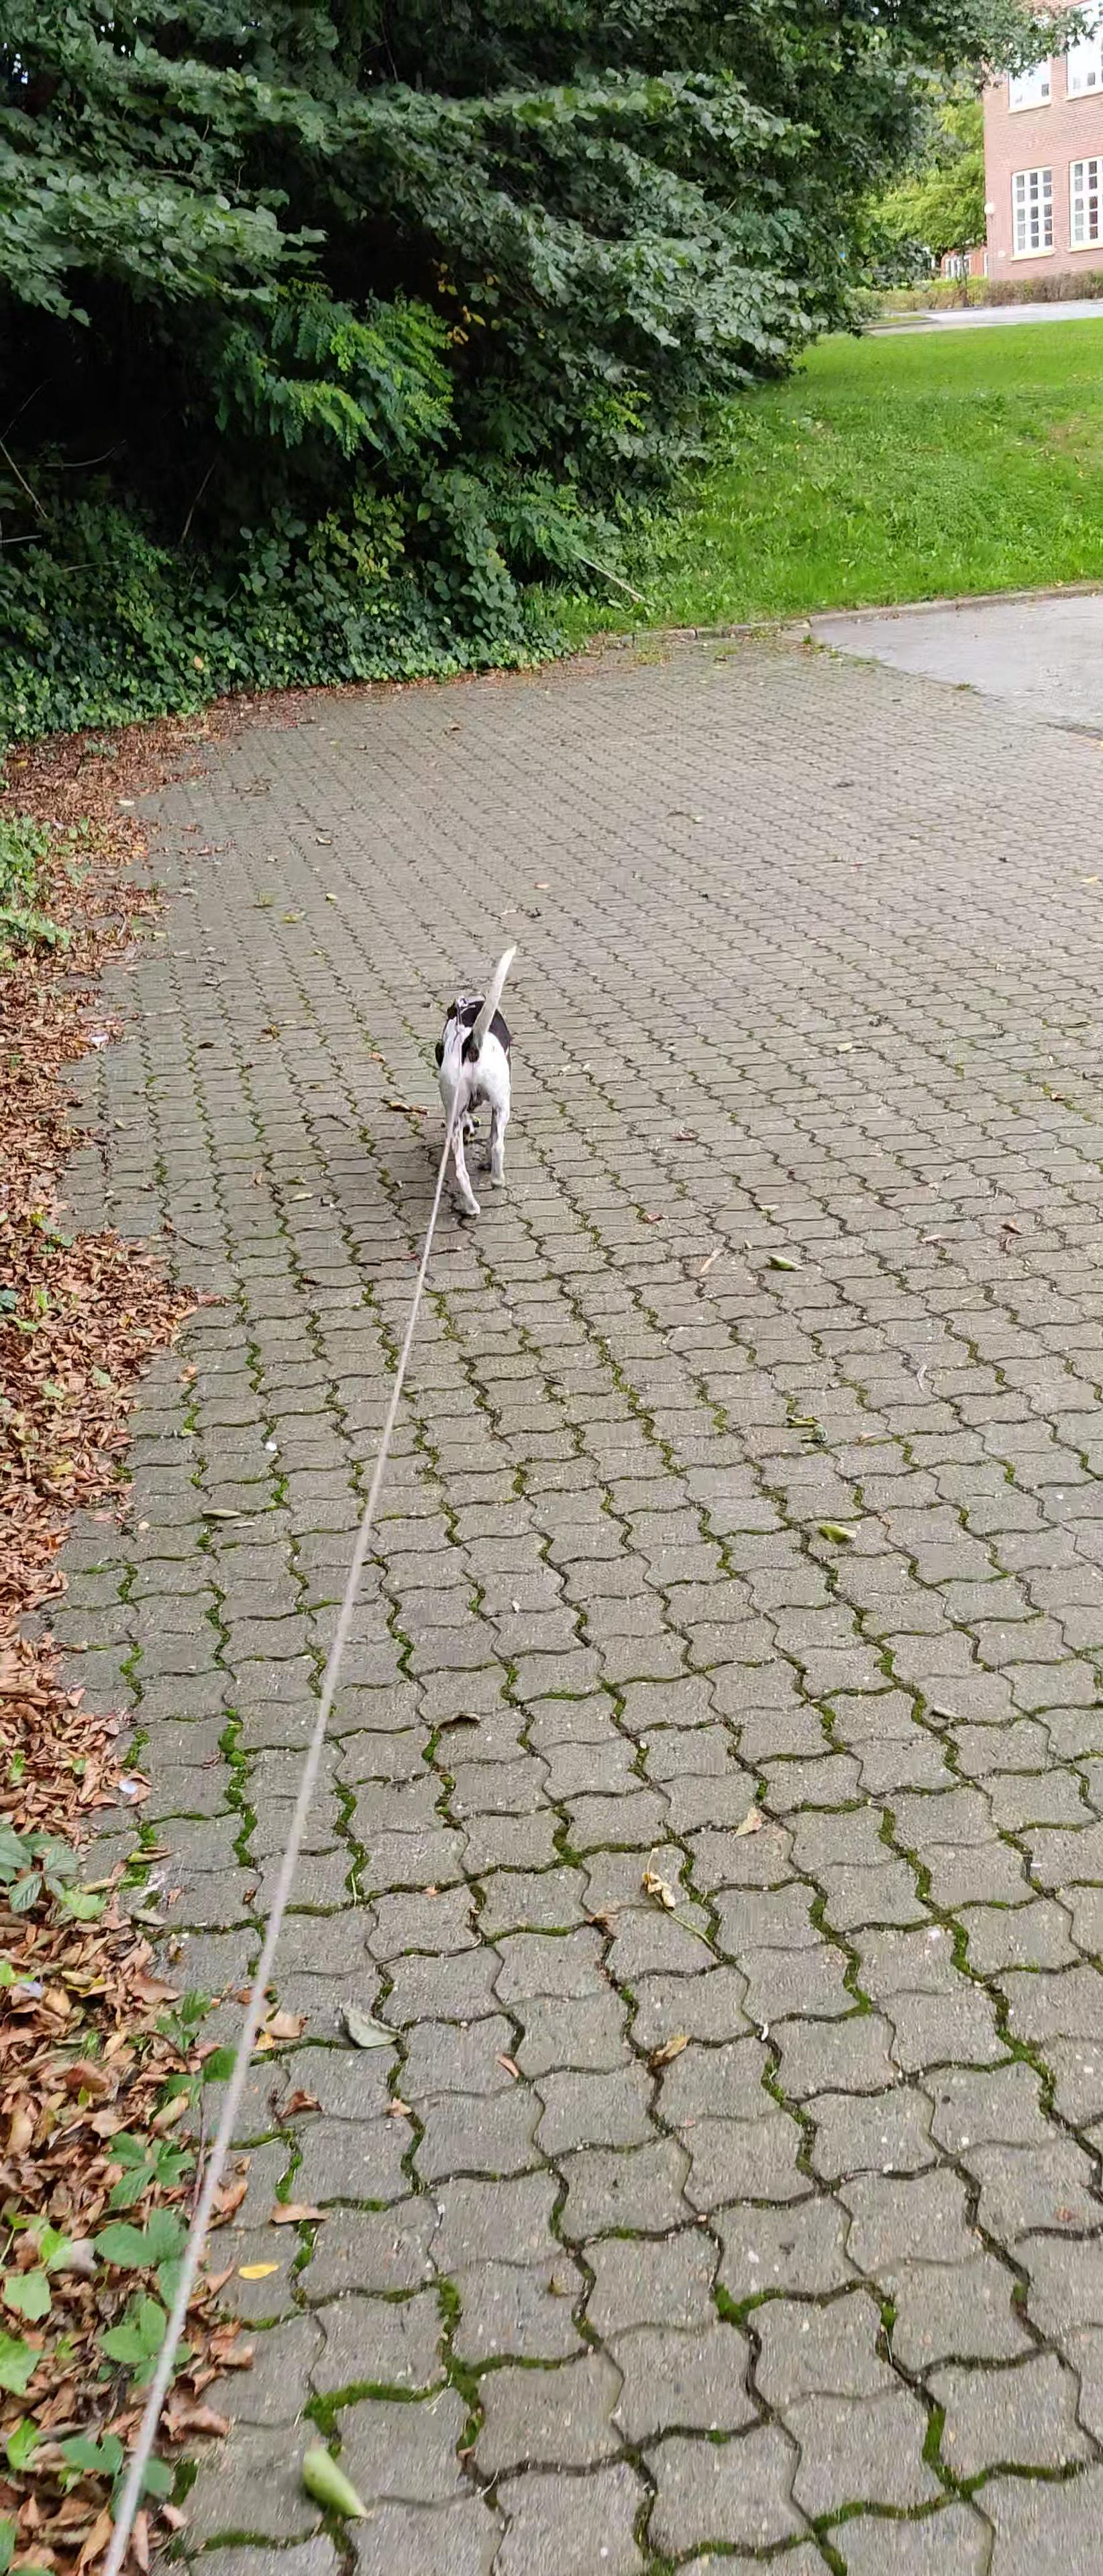Dog: (427, 938, 526, 1222)
